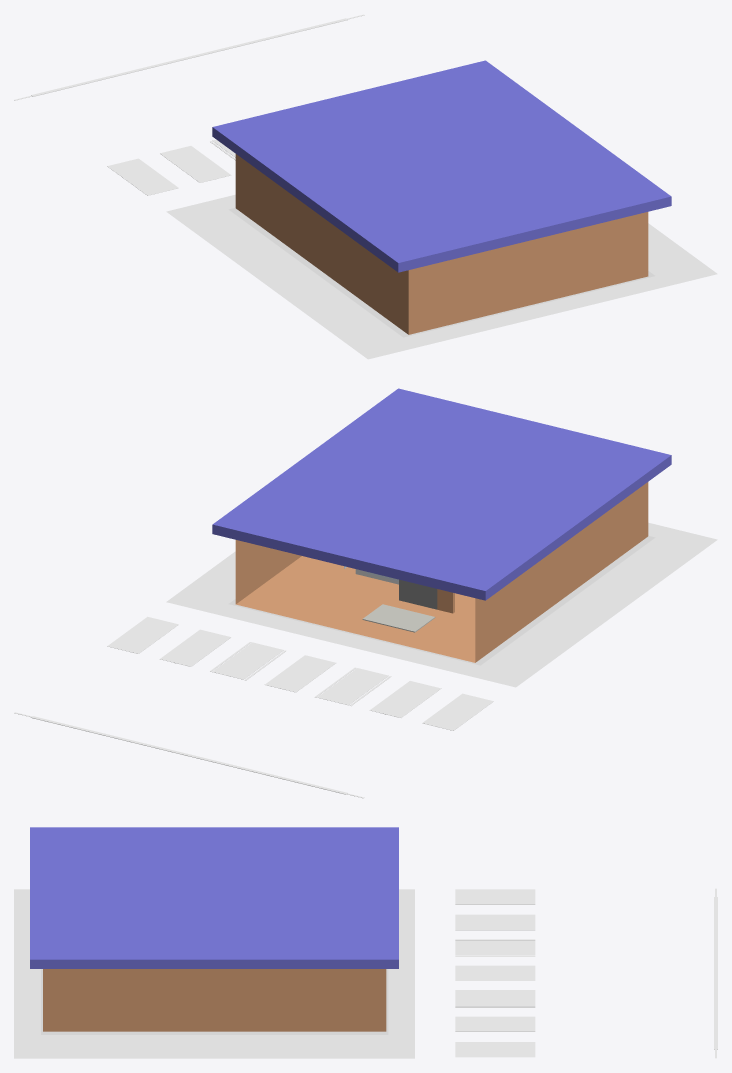
File: ConvenienceStore.fbx
3 renders of one model, top to bottom at view 1: azimuth 30°, elevation 25°; view 2: azimuth 150°, elevation 25°; view 3: azimuth 270°, elevation 25°, orthographic.
Visible parts, largest first — view 1: RoofTrim, StoreBuilding, StoreFloor.001, StoreFloor, ParkingSpot_-3, ParkingSpot_-2, RoadCenterLine; view 2: RoofTrim, StoreBuilding, StoreFloor.001, StoreFloor, ParkingSpot_1, ParkingSpot_-1, ParkingSpot_-3, ParkingSpot_0, ParkingSpot_-2, ParkingSpot_2, ParkingSpot_3, EntranceArea (+2 smaller); view 3: RoofTrim, StoreBuilding, StoreFloor.001, StoreFloor, ParkingSpot_-2, ParkingSpot_-1, ParkingSpot_-3, ParkingSpot_1, ParkingSpot_0, ParkingSpot_2, ParkingSpot_3, RoadCenterLine.
Boxes of the visible parts, <box> form: RoofTrim: <box>212,60,671,272</box>; StoreBuilding: <box>235,154,648,334</box>; StoreFloor.001: <box>166,194,717,359</box>; StoreFloor: <box>229,208,654,337</box>; ParkingSpot_-3: <box>107,158,178,195</box>; ParkingSpot_-2: <box>160,146,231,182</box>; RoadCenterLine: <box>31,18,347,96</box>; RoofTrim: <box>212,388,671,600</box>; StoreBuilding: <box>235,482,648,662</box>; StoreFloor.001: <box>166,522,717,687</box>; StoreFloor: <box>229,536,655,665</box>; ParkingSpot_1: <box>212,642,283,679</box>; ParkingSpot_-1: <box>317,668,388,705</box>; ParkingSpot_-3: <box>422,693,493,730</box>; ParkingSpot_0: <box>265,655,336,692</box>; ParkingSpot_-2: <box>370,681,441,717</box>; ParkingSpot_2: <box>160,629,231,666</box>; ParkingSpot_3: <box>107,616,178,653</box>; EntranceArea: <box>362,604,435,632</box>; RoofTrim: <box>30,827,398,968</box>; StoreBuilding: <box>43,969,386,1031</box>; StoreFloor.001: <box>14,889,414,1058</box>; StoreFloor: <box>41,969,388,1034</box>; ParkingSpot_-2: <box>455,914,535,930</box>; ParkingSpot_-1: <box>455,940,535,955</box>; ParkingSpot_-3: <box>455,889,535,904</box>; ParkingSpot_1: <box>455,991,535,1006</box>; ParkingSpot_0: <box>455,965,535,980</box>; ParkingSpot_2: <box>455,1016,535,1031</box>; ParkingSpot_3: <box>455,1042,535,1057</box>; RoadCenterLine: <box>714,897,717,1049</box>.
Size of what is drawn, in the model's own units: 2000 by 508 by 3510.
